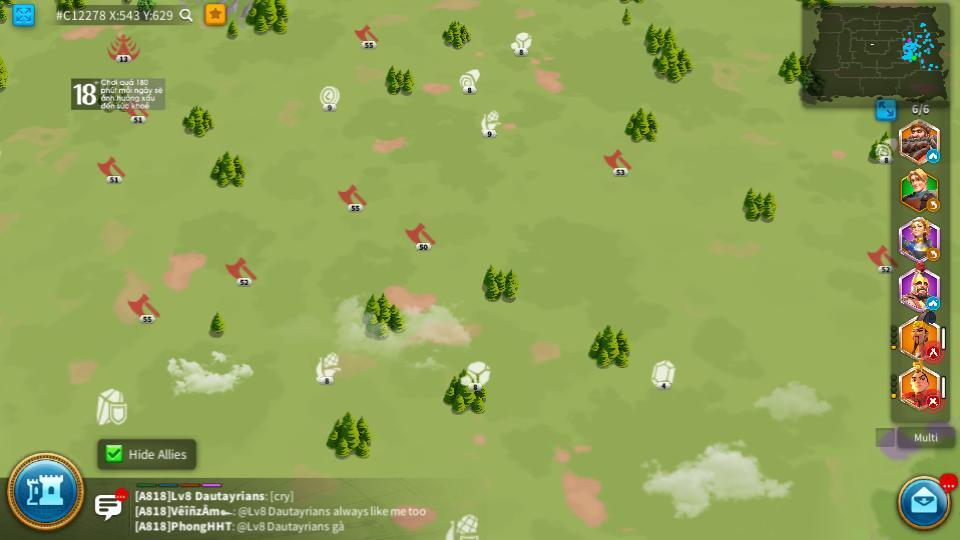gem-z-out: (649, 361, 678, 388)
march_attacking: (926, 395, 941, 407), (924, 348, 939, 360)
march_idle: (926, 298, 940, 309), (927, 151, 940, 162)
march_returning: (927, 201, 940, 212), (925, 248, 938, 259)
